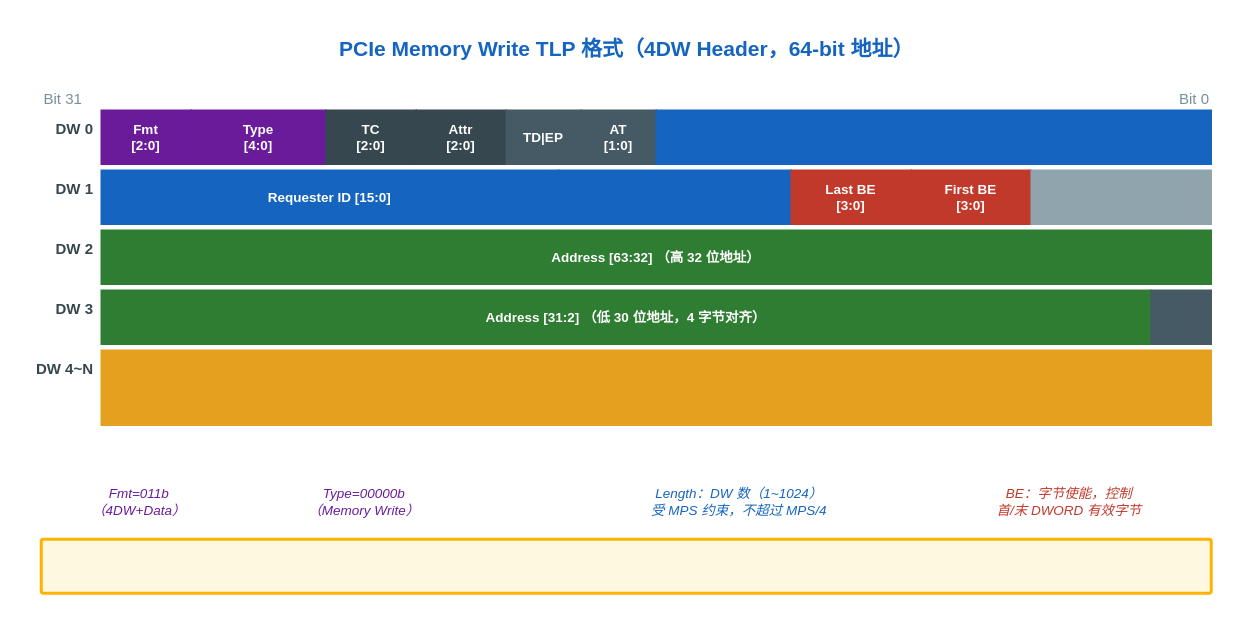
The diagram is 1238 pixels wide and 620 high, and some of its shapes have lost their labels. The shapes that lost their labels are listed below. From the top down, each one's centre as x and y in pixels, then its label:
At pixel 933 136: "Length [9:0] （DWORD 数）".
At pixel 674 196: "Tag [7:0]".
At pixel 1120 196: "Rsv".
At pixel 1180 316: "PH [1:0]".
At pixel 655 387: "Data Payload（写数据，Length 个 DWORD，最大 = MPS）".
At pixel 625 565: "PCIe 规范约束：单笔 Memory Write TLP 数据 ≤ MPS，且不得跨越 4KB 自然对齐边界".
